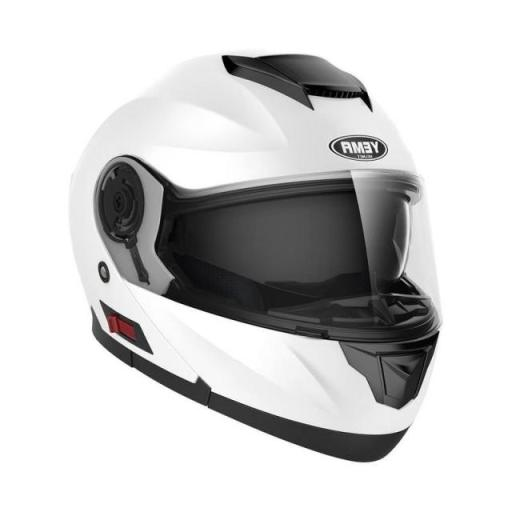Helmet: (71, 56, 439, 460)
